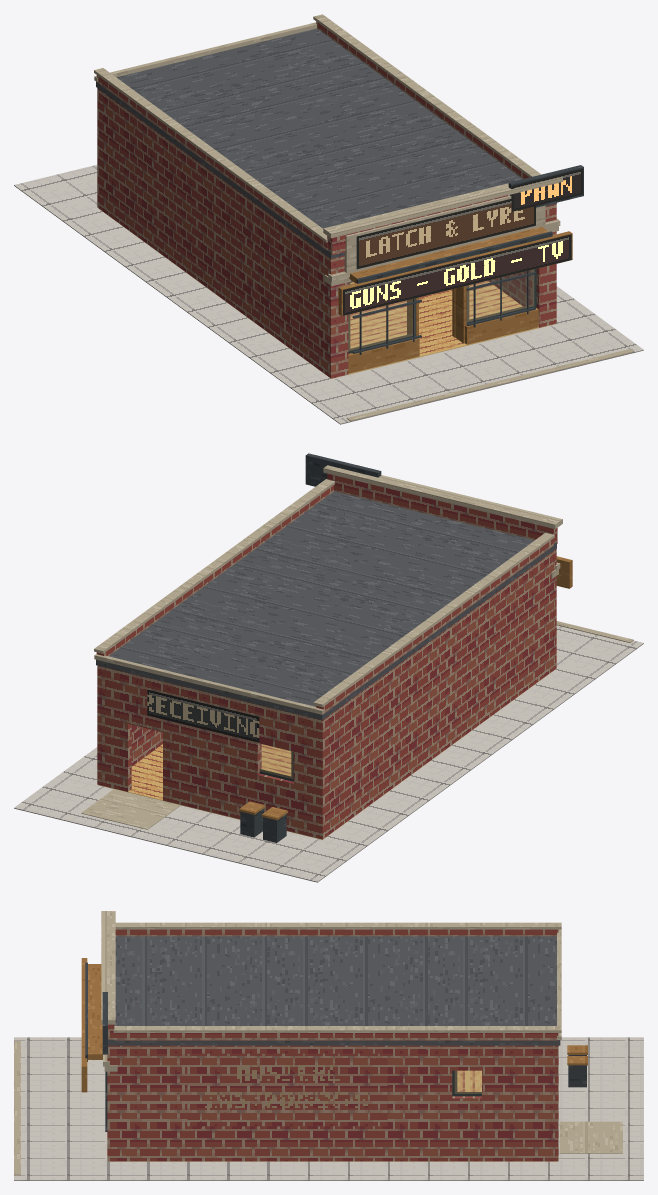
The model's file is latch-and-lyre-1960-far.glb.
3 views of the same model, one above another, from view 1: azimuth 30°, elevation 25°; view 2: azimuth 150°, elevation 25°; view 3: azimuth 270°, elevation 25° (orthographic). The views are drawn at different scales.
Parts seen in each view (by area): view 1: shell, lot, sign_name, fixed_interior, display_window_east, display_window_west, window_bars_west, window_bars_east; view 2: shell, lot, fixed_interior; view 3: shell, lot, fixed_interior.
Boxes of the visible parts, x1,y1,x2,y2 form: shell: (94,14,583,378); lot: (14,165,643,424); sign_name: (356,198,535,269); fixed_interior: (98,208,556,378); display_window_east: (466,269,536,323); display_window_west: (348,280,415,353); window_bars_west: (352,298,421,354); window_bars_east: (466,270,535,327); shell: (94,453,572,839); lot: (14,621,643,882); fixed_interior: (98,669,555,839); shell: (81,911,561,1161); lot: (14,1037,643,1180); fixed_interior: (107,1070,558,1161).
Size of the model in its own units: 10.5 by 5.07 by 19.55.
10 materials, 10 textured.
